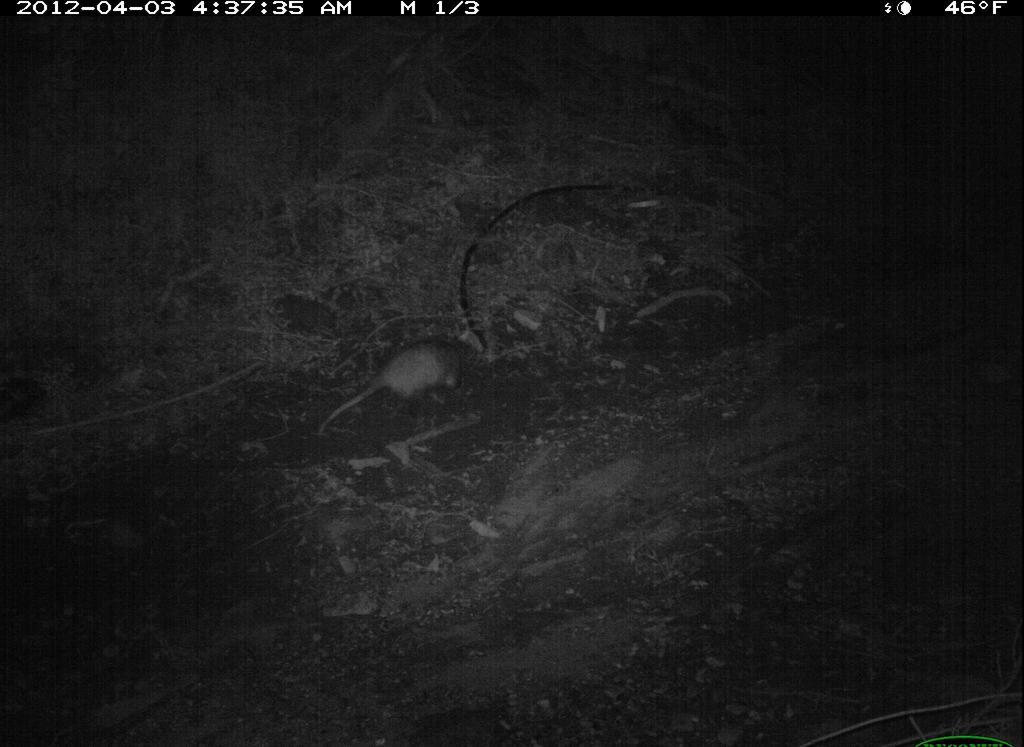opossum: (301, 324, 479, 445)
